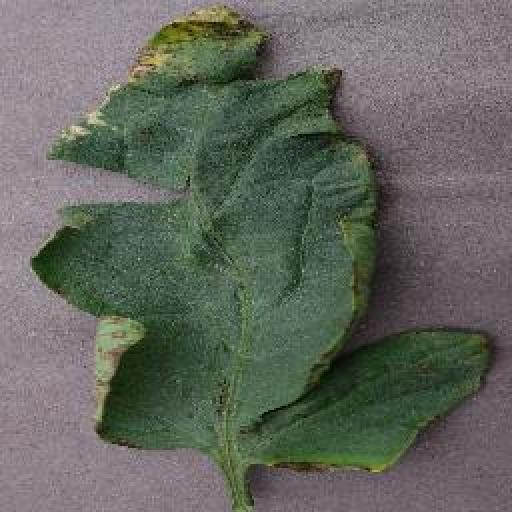Bacterial Spot: (26, 1, 505, 512)
